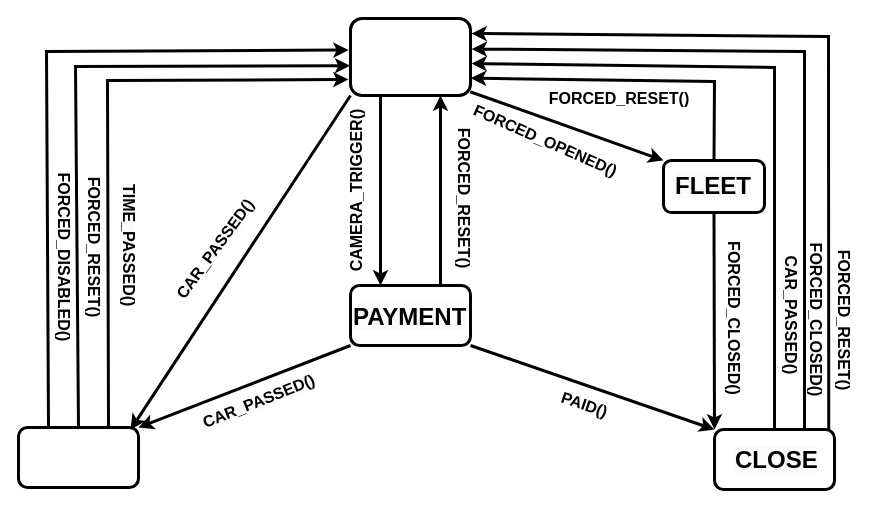
Some shapes in this 877 by 508 pixel diagram are drawn without their labels. The shapes that lost their labels are listed below. From the top down, each one's centre as x and y in pixels, then its label:
the point at 410,56: IDLE
the point at 78,457: PANIC
